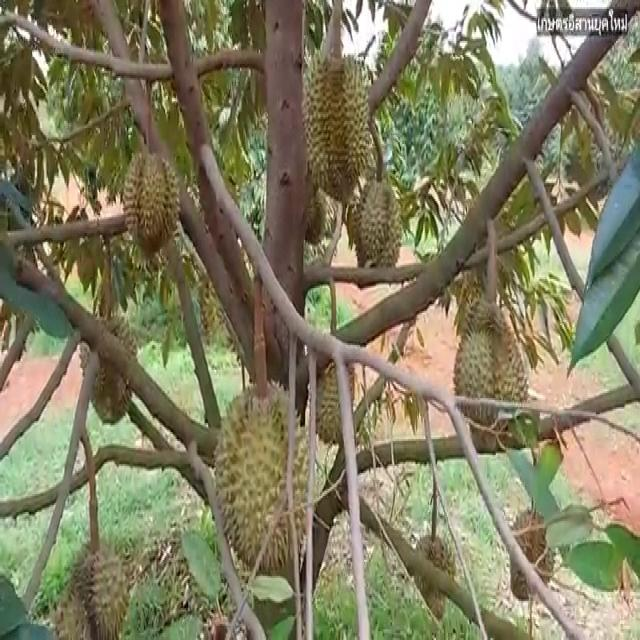durian: (209, 366, 320, 581), (301, 40, 378, 202), (451, 295, 532, 436), (51, 532, 130, 638), (73, 311, 140, 431), (118, 142, 185, 260), (353, 171, 410, 278), (503, 502, 557, 607), (410, 526, 458, 624), (314, 350, 356, 449)
